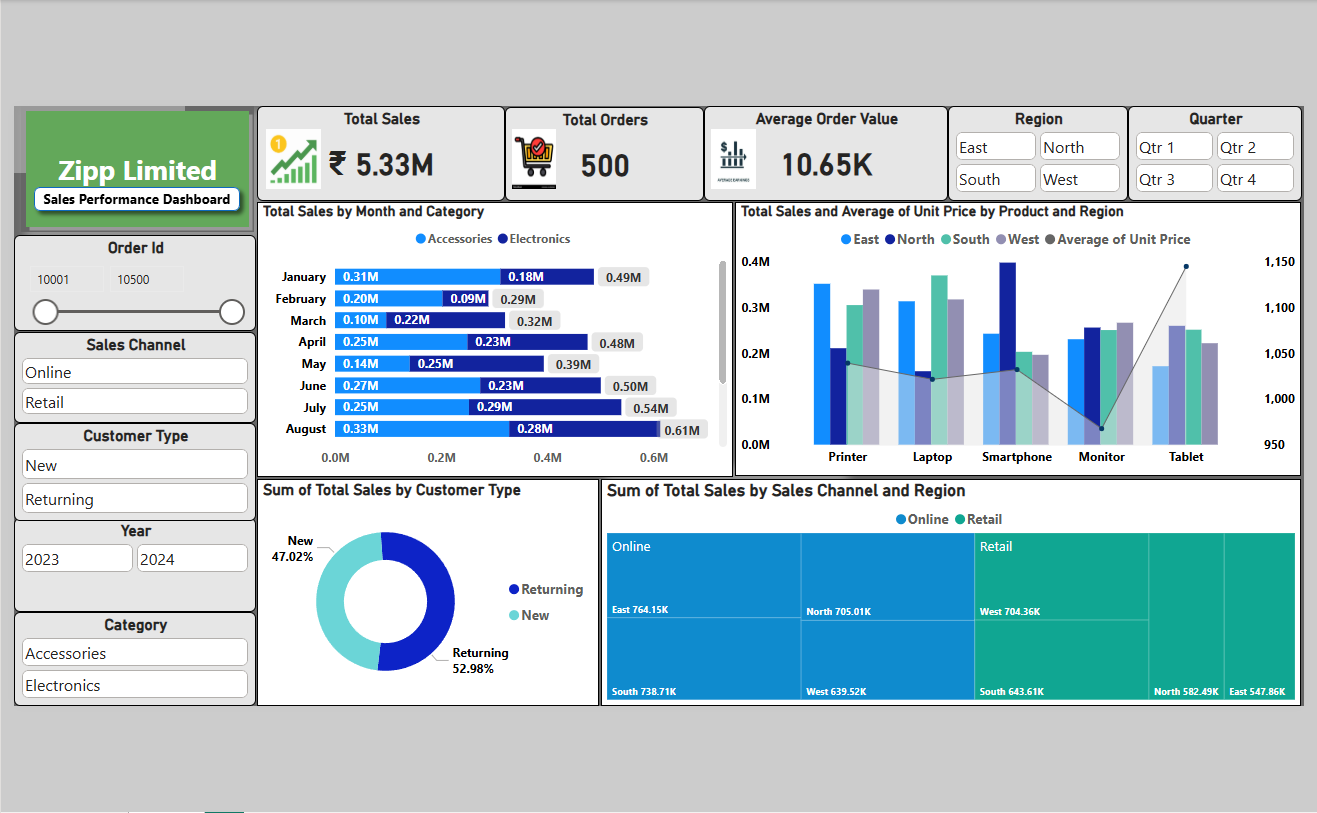

The page's visual inventory and layout, read from the dashboard file:
{"tool":"powerbi","page":{"name":"Page 1","canvas":[1290,600],"ordinal":0},"visuals":[{"type":"shape","box":[0,0,171.2,67.1],"z":0},{"type":"shape","box":[7,0,233,126],"z":1000},{"type":"slicer","title":"Order ID","fields":{"Values":["Sales_Data.Order ID"]},"box":[594,373,237,85],"z":2000},{"type":"advancedSlicerVisual","fields":{"Values":["Sales_Data.Region"]},"box":[934,0,180,95],"z":3000},{"type":"card","title":"Total Sales","fields":{"Values":["Sum(Sales_Data.Total Sales)"]},"box":[243,0,248,95],"z":4000},{"type":"advancedSlicerVisual","fields":{"Values":["Sales_Data.Category"]},"box":[0,506,242,94],"z":5000},{"type":"advancedSlicerVisual","fields":{"Values":["Sales_Data.Month.Variation.Date Hierarchy.Quarter"]},"box":[1114,0,174,95],"z":6000},{"type":"advancedSlicerVisual","fields":{"Values":["Sales_Data.Month.Variation.Date Hierarchy.Year"]},"box":[0,412,242,94],"z":7000},{"type":"advancedSlicerVisual","fields":{"Values":["Sales_Data.Sales Channel"]},"box":[0,226,242,91],"z":8000},{"type":"advancedSlicerVisual","fields":{"Values":["Sales_Data.Customer Type"]},"box":[0,317,242,98],"z":9000},{"type":"barChart","title":" Total Sales by Month and Category","fields":{"Category":["Sales_Data.Month.Variation.Date Hierarchy.Month"],"Y":["Sum(Sales_Data.Total Sales)"],"Series":["Sales_Data.Category"]},"box":[243.2,96,476,275],"z":11000},{"type":"lineClusteredColumnComboChart","title":"Total Sales and Average of Unit Price by Product and Region","fields":{"Y":["Sum(Sales_Data.Total Sales)"],"Category":["Sales_Data.Product"],"Y2":["Avg(Sales_Data.Unit Price)"],"Series":["Sales_Data.Region"]},"box":[720.7,96,566,274],"z":12000},{"type":"donutChart","fields":{"Y":["Sum(Sales_Data.Total Sales)"],"Category":["Sales_Data.Customer Type"]},"box":[243.2,373.5,342,226.6],"z":13000},{"type":"treemap","fields":{"Values":["Sum(Sales_Data.Total Sales)"],"Group":["Sales_Data.Sales Channel"],"Details":["Sales_Data.Region"]},"box":[587.5,373.5,700,226.6],"z":14000},{"type":"image","box":[252,23,55,60],"z":15000},{"type":"slicer","title":"Order Id","fields":{"Values":["Sales_Data.Order ID"]},"box":[0,129,242,96],"z":16000},{"type":"shape","box":[11,72,224,42],"z":17000},{"type":"card","title":"Total Orders","fields":{"Values":["Count(Sales_Data.Order ID)"]},"box":[491,1,199,94],"z":17001},{"type":"card","title":"Average Order Value","fields":{"Values":["Avg(Sales_Data.Total Sales)"]},"box":[690,0,244,95],"z":17002},{"type":"image","box":[498,23,44,60],"z":17003},{"type":"image","box":[697,23,45,60],"z":17004}]}

Visuals, with their boxes in screenshot pixels (x1, y1, x2, y2):
shape: bbox(7, 99, 179, 167)
shape: bbox(14, 99, 248, 226)
"Order ID" slicer: bbox(605, 475, 844, 561)
advancedSlicerVisual - Sales_Data.Region: bbox(947, 99, 1128, 195)
"Total Sales" card: bbox(252, 99, 501, 195)
advancedSlicerVisual - Sales_Data.Category: bbox(7, 609, 251, 704)
advancedSlicerVisual - Sales_Data.Month.Variation.Date Hierarchy.Quarter: bbox(1128, 99, 1304, 195)
advancedSlicerVisual - Sales_Data.Month.Variation.Date Hierarchy.Year: bbox(7, 514, 251, 609)
advancedSlicerVisual - Sales_Data.Sales Channel: bbox(7, 327, 251, 419)
advancedSlicerVisual - Sales_Data.Customer Type: bbox(7, 419, 251, 517)
" Total Sales by Month and Category" barChart: bbox(252, 196, 731, 473)
"Total Sales and Average of Unit Price by Product and Region" lineClusteredColumnComboChart: bbox(732, 196, 1302, 472)
donutChart - Sum(Sales_Data.Total Sales) x Sales_Data.Customer Type: bbox(252, 476, 596, 704)
treemap - Sum(Sales_Data.Total Sales) x Sales_Data.Sales Channel: bbox(598, 476, 1303, 704)
image: bbox(261, 123, 316, 183)
"Order Id" slicer: bbox(7, 229, 251, 326)
shape: bbox(18, 172, 243, 214)
"Total Orders" card: bbox(501, 100, 702, 195)
"Average Order Value" card: bbox(702, 99, 947, 195)
image: bbox(508, 123, 553, 183)
image: bbox(709, 123, 754, 183)
